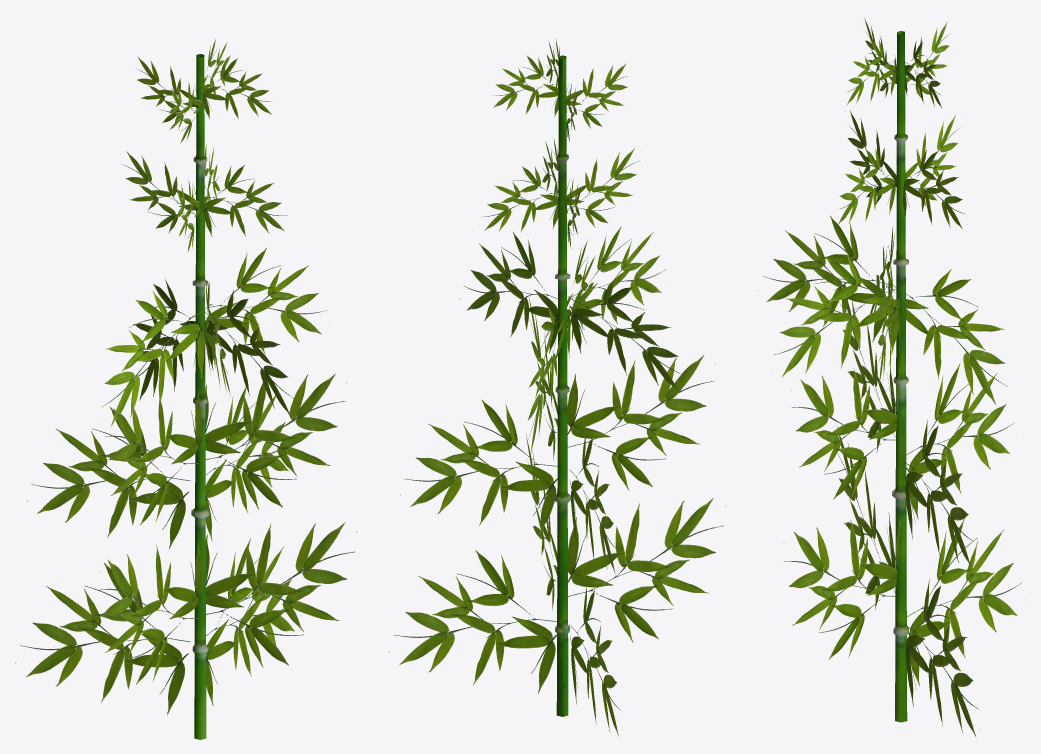
File: BambooTree01.fbx
3 renders of one model, left to right at view 1: azimuth 30°, elevation 25°; view 2: azimuth 150°, elevation 25°; view 3: azimuth 270°, elevation 25°, orthographic. The views are drawn at different scales.
Parts seen in each view (by area): view 1: Bambootree01; view 2: Bambootree01; view 3: Bambootree01.
Boxes of the visible parts, x1,y1,x2,y2 form: Bambootree01: [15, 39, 357, 739]; Bambootree01: [388, 39, 725, 736]; Bambootree01: [758, 18, 1025, 737].
Bounding box in the file's own units: 47.14 × 111 × 38.5.
